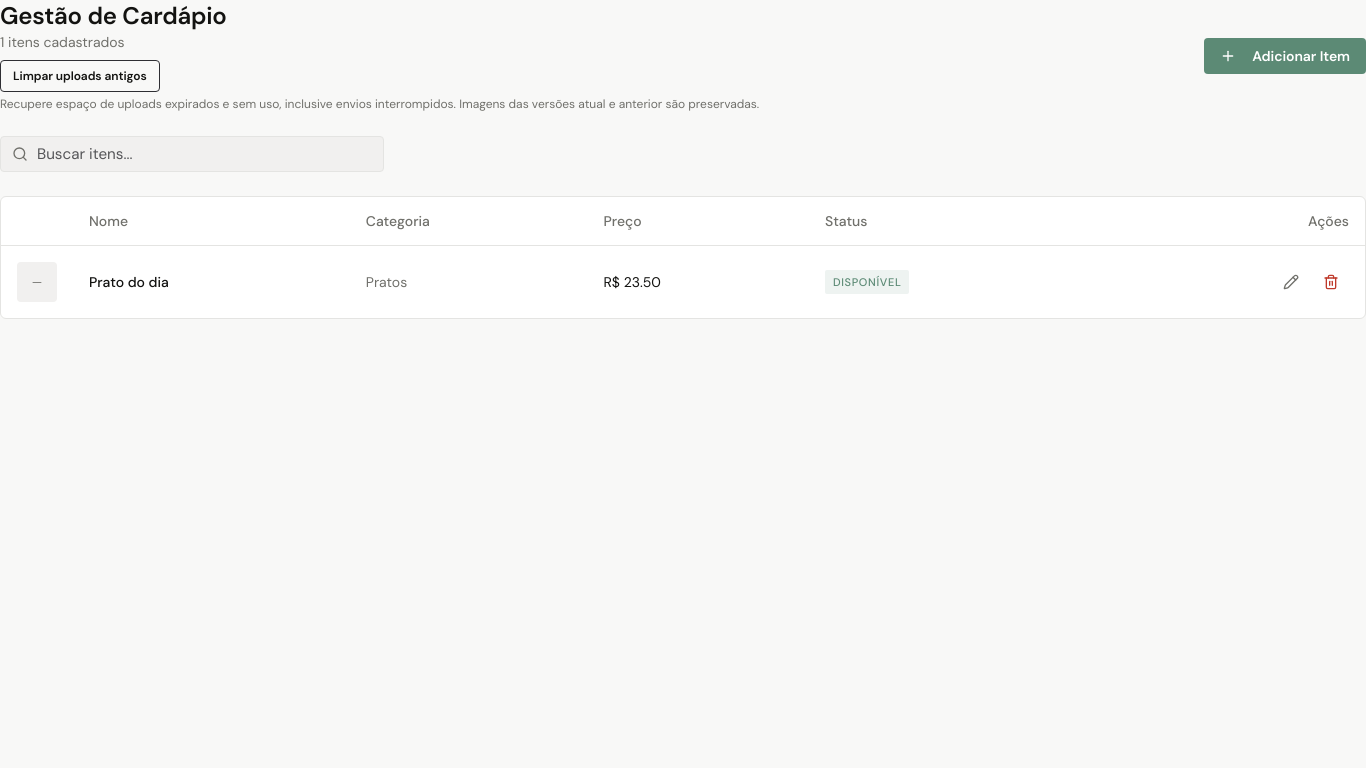
it: owner menu receipt and image ordering integration, reader=true › shows committed-not-ready, blocks another save and reloads after manual ready
This screenshot has width=1366, height=768.
Expected: the text "Prato do dia" is shown, [89,272,169,292]
Click the button named "Editar Prato do dia": (1291, 282) [1273,264,1309,300]
(page scrolled)
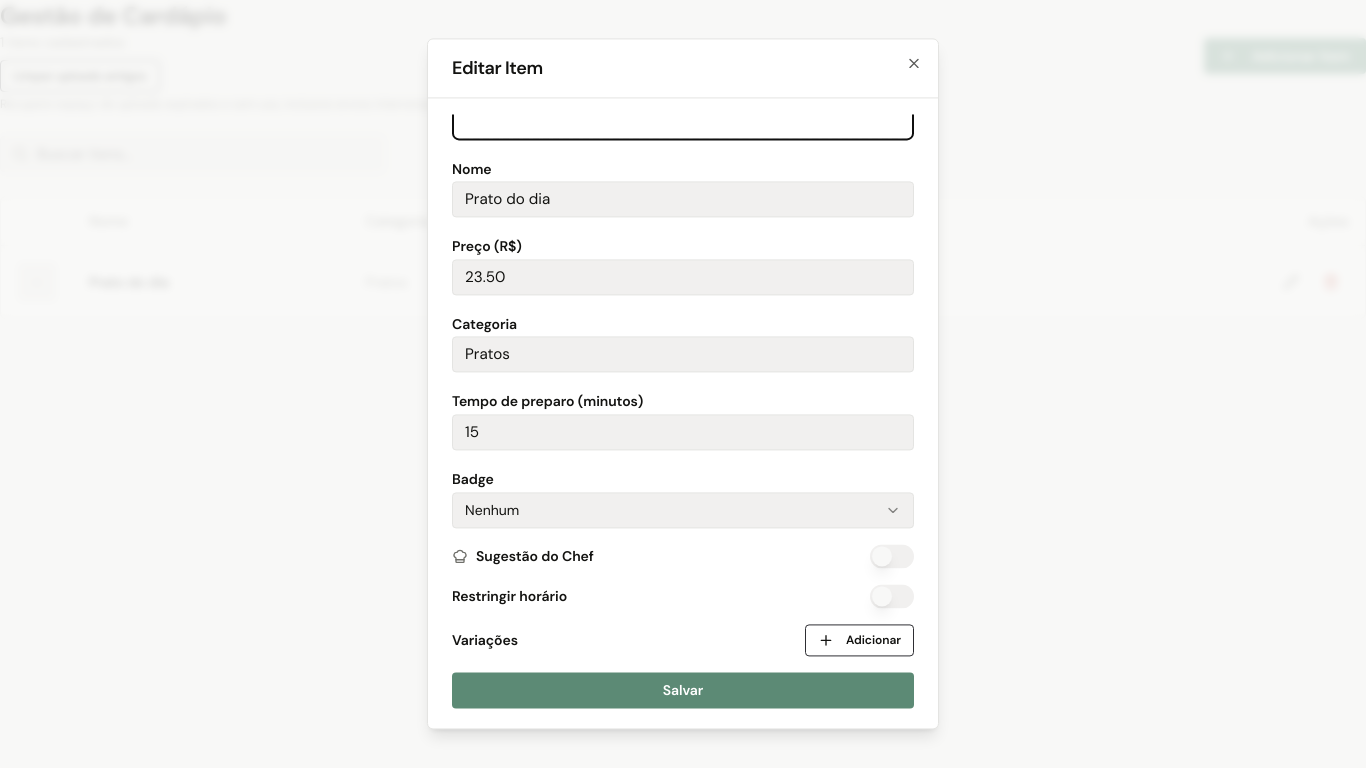
Click the button "Salvar": (683, 690) [452,672,914,708]
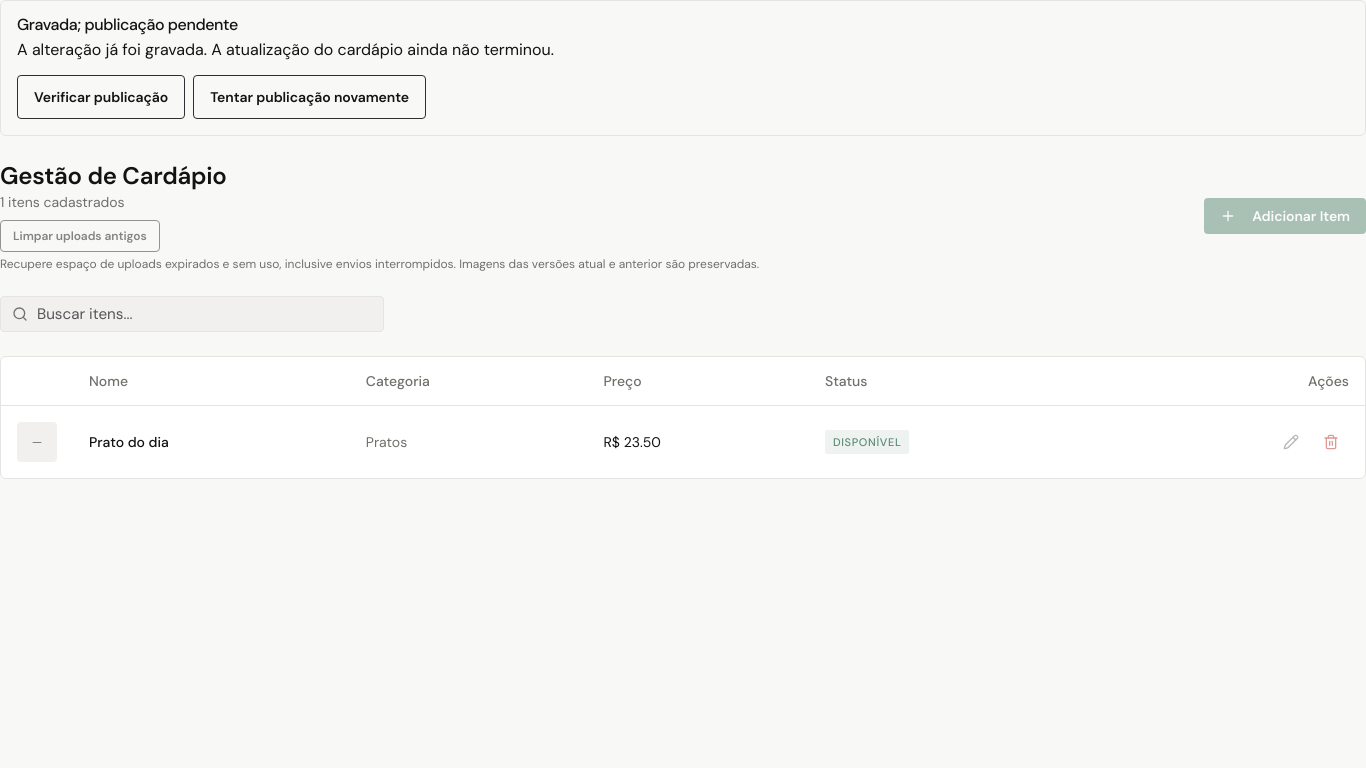
Expected: the heading "Gravada; publicação pendente" is shown, [17,14,238,35]
Expected: the button "Adicionar Item" is disabled, [1204,198,1365,234]
Expected: the button named "Remover Prato do dia" is disabled, [1313,424,1349,460]
Click the button "Tentar publicação novamente": (310, 97) [193,75,426,119]
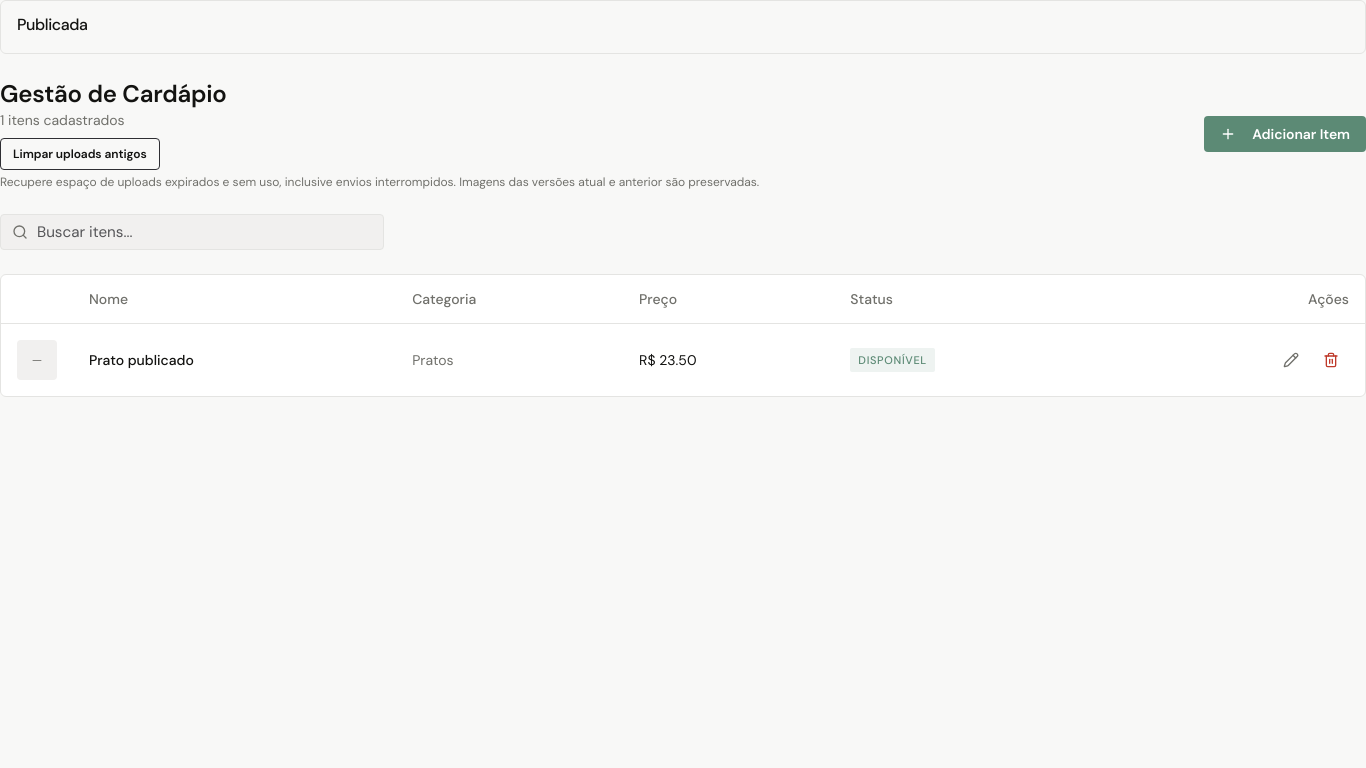
Expected: the text "Prato publicado" is shown, [89,350,194,370]
Expected: the heading "Publicada" is shown, [17,14,88,35]
